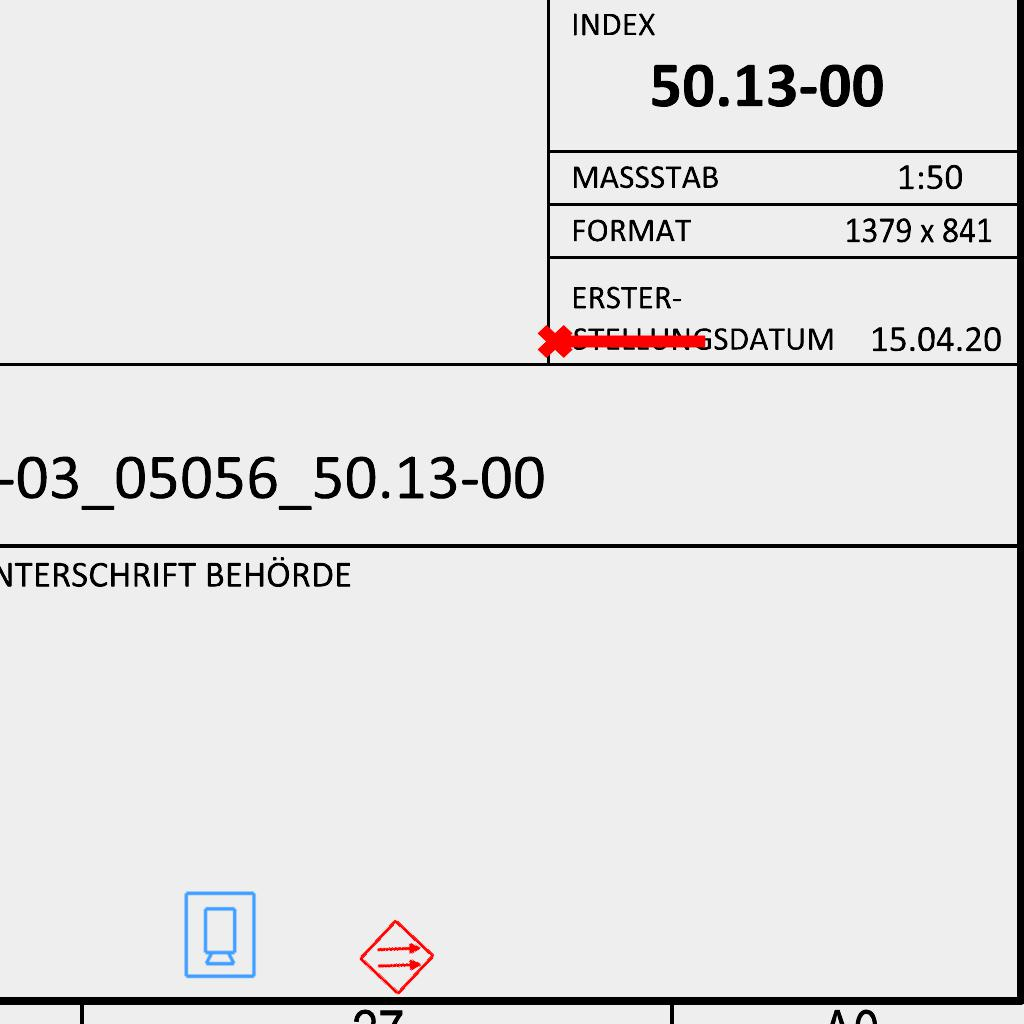ASR_Ansaugoeffnung: (535, 316, 711, 362)
KFO_Kamera_mit_Festobjektiv: (181, 889, 258, 980)
RMO_Rauchmelder_optischer: (357, 917, 437, 997)
